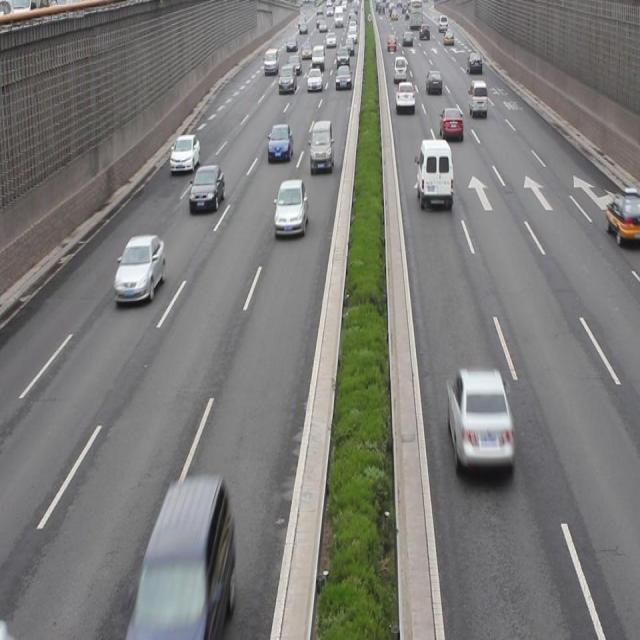car: (129, 480, 234, 640), (447, 369, 512, 471), (114, 234, 165, 310), (601, 193, 640, 243), (275, 180, 308, 238), (187, 167, 226, 212), (170, 135, 201, 176), (437, 106, 463, 142), (267, 126, 292, 158)
truck: (413, 136, 454, 212), (309, 119, 333, 174)
